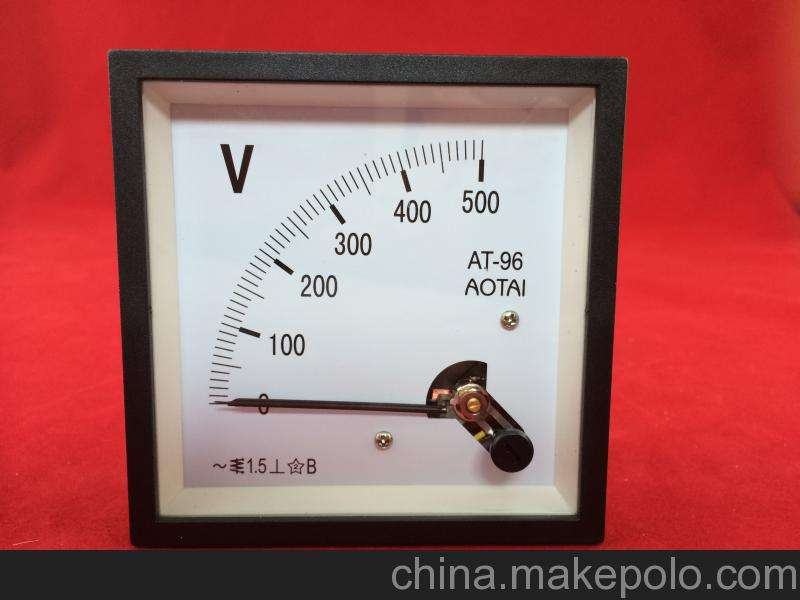pointer: (140, 79, 577, 518)
